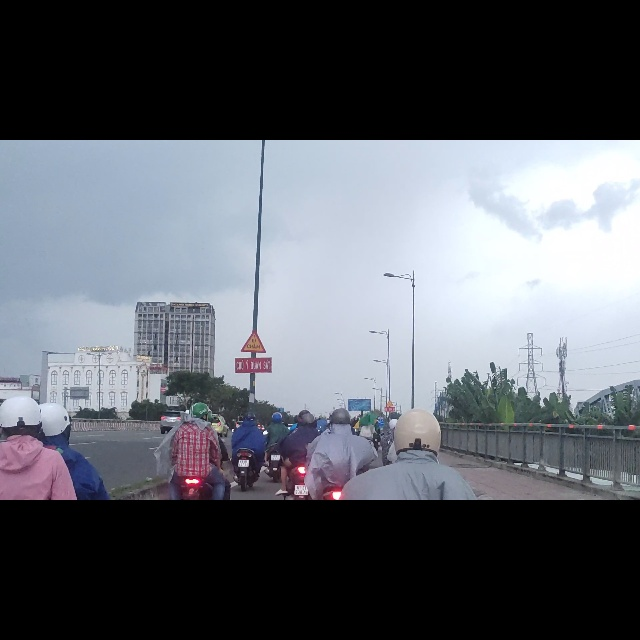bien_chi_dan: (240, 337, 267, 379)
